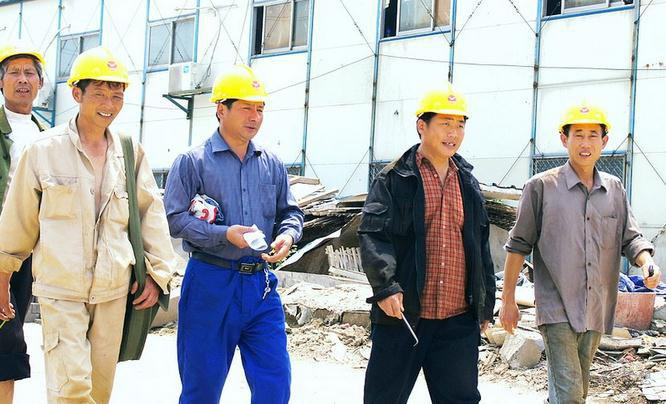helmet: (65, 39, 129, 129), (205, 59, 271, 141), (408, 80, 475, 157), (551, 94, 615, 168), (0, 39, 45, 106)
